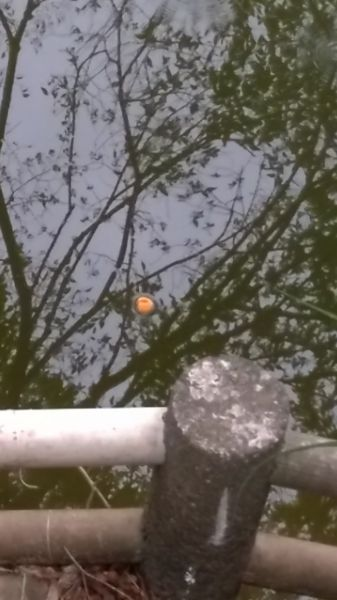eggs: (129, 285, 157, 319)
